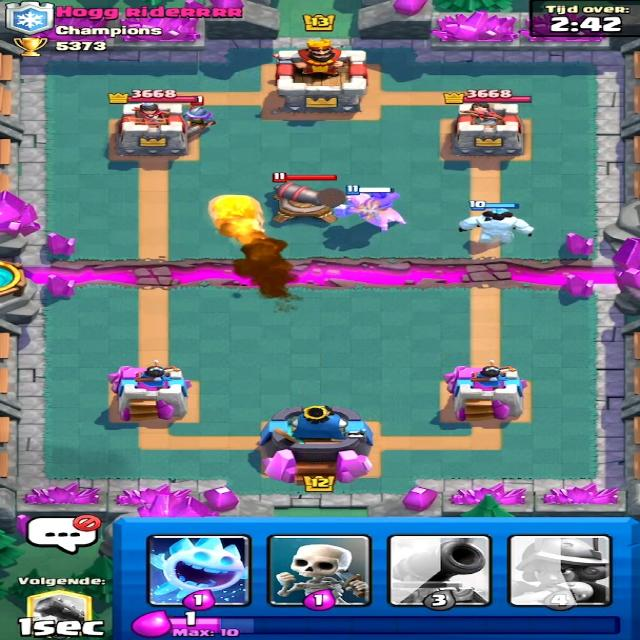Cannon_Card: (388, 534, 484, 610)
Enemy_Cannon_Troop: (252, 184, 334, 228)
Enemy_Musketeer_Troop: (178, 96, 228, 136)
Fireball_Troop: (209, 190, 262, 233)
Hog_Rider_Troop: (337, 182, 407, 232)
Ice_Golem_Troop: (459, 209, 539, 248)
Ice_Spirit_Card: (151, 534, 250, 605)
Musketeer_Card: (507, 535, 610, 609)
Skeleton_Card: (271, 539, 366, 606)
